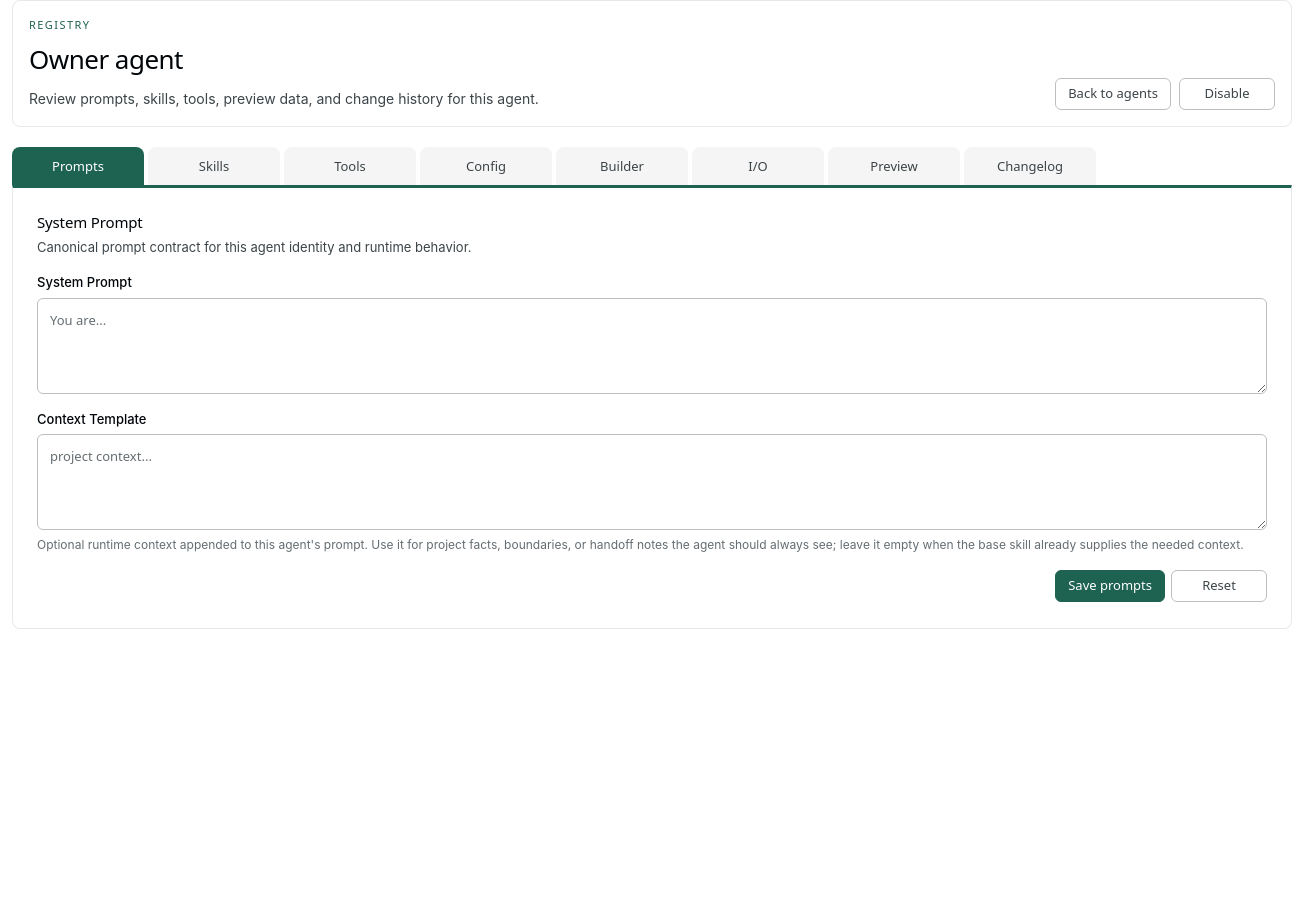
Test: RegistryAgentsDetailPage › localizes the category select and shows the agent's category by its shared label
This screenshot has width=1292, height=900.
Check: the heading "Owner agent" is shown, box [29, 41, 183, 77]
Click the tab "Config" at (486,166), box [420, 147, 552, 185]
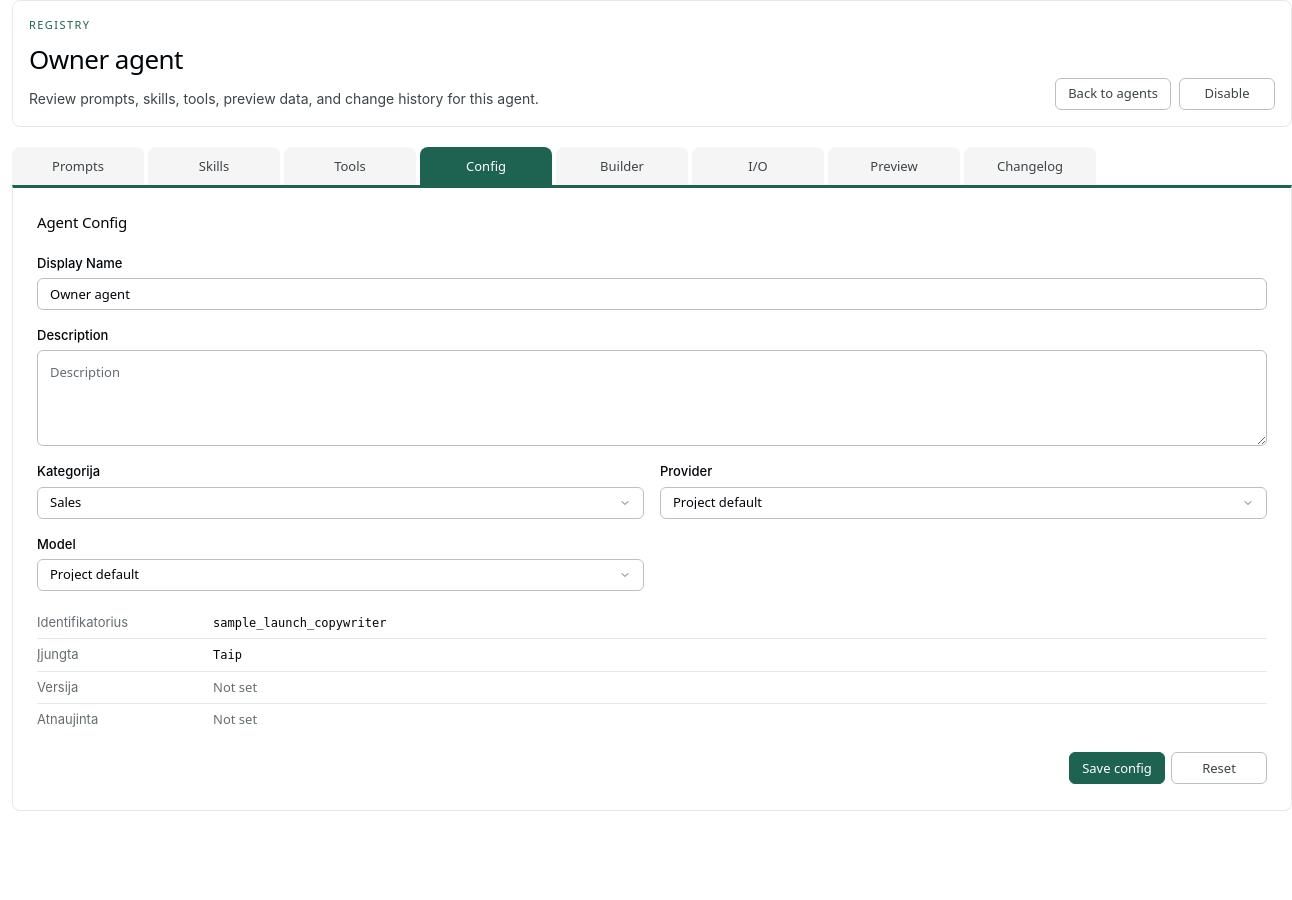
Check: the text "Sales" is shown, box [50, 496, 81, 509]
